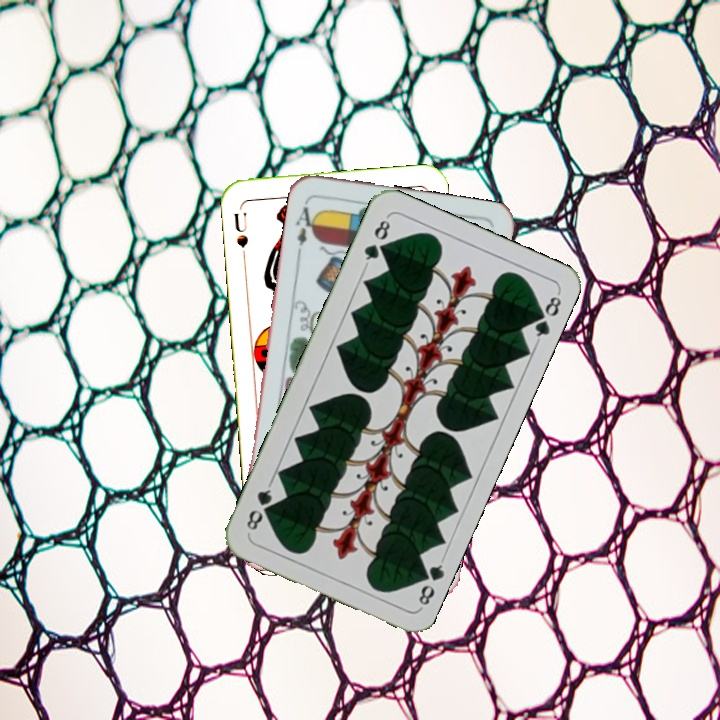EA: (291, 197, 320, 256)
G8: (412, 555, 447, 611), (360, 213, 393, 269)
SU: (230, 203, 251, 262)
